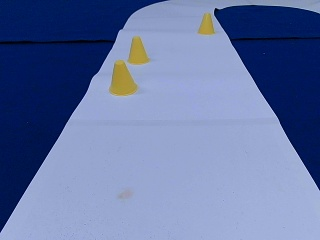cone: (108, 60, 137, 95), (126, 36, 149, 65), (198, 13, 214, 34)
